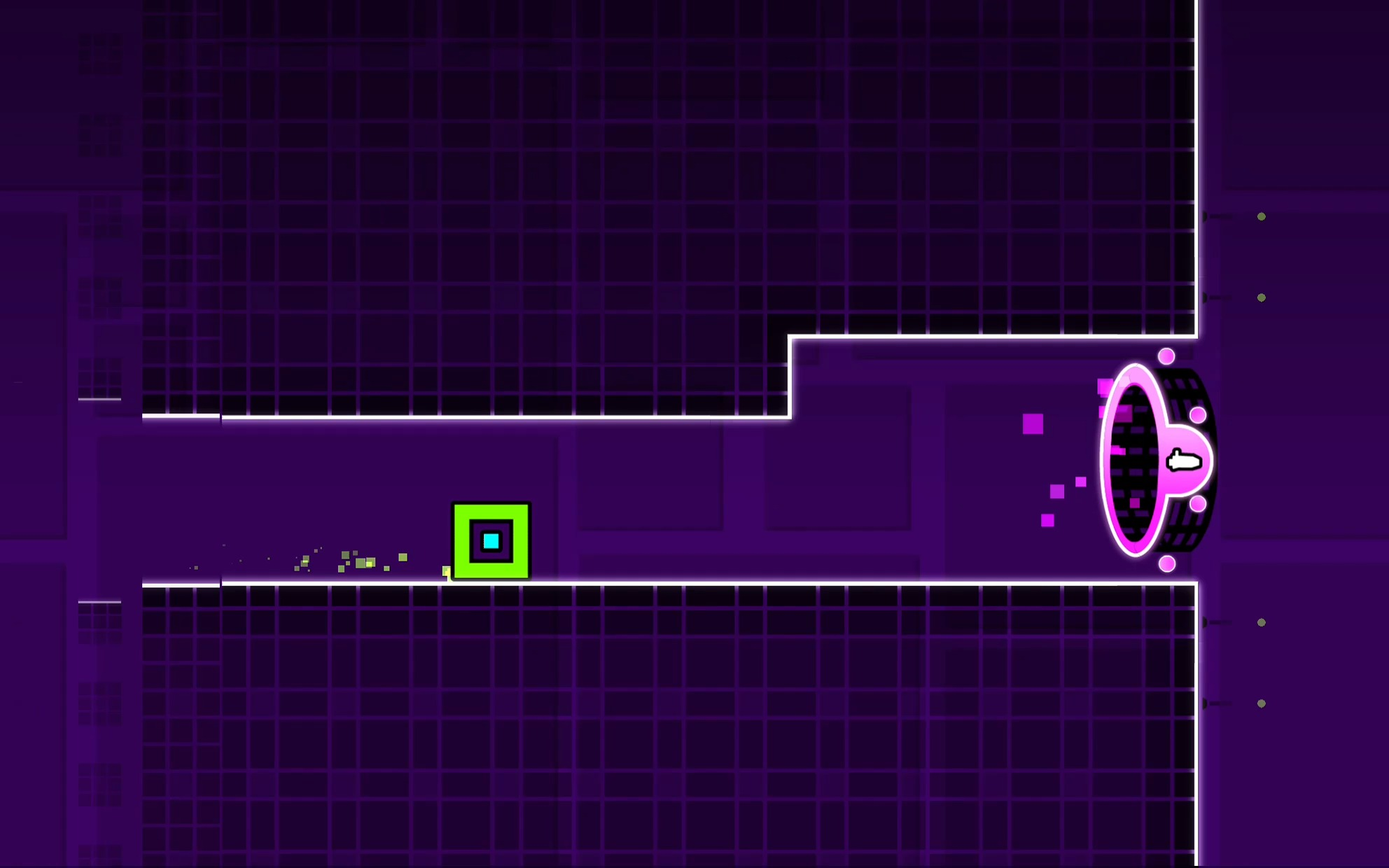Block2: (146, 586, 1204, 868), (148, 4, 788, 420), (790, 4, 1194, 336)
Player: (450, 500, 529, 577)
